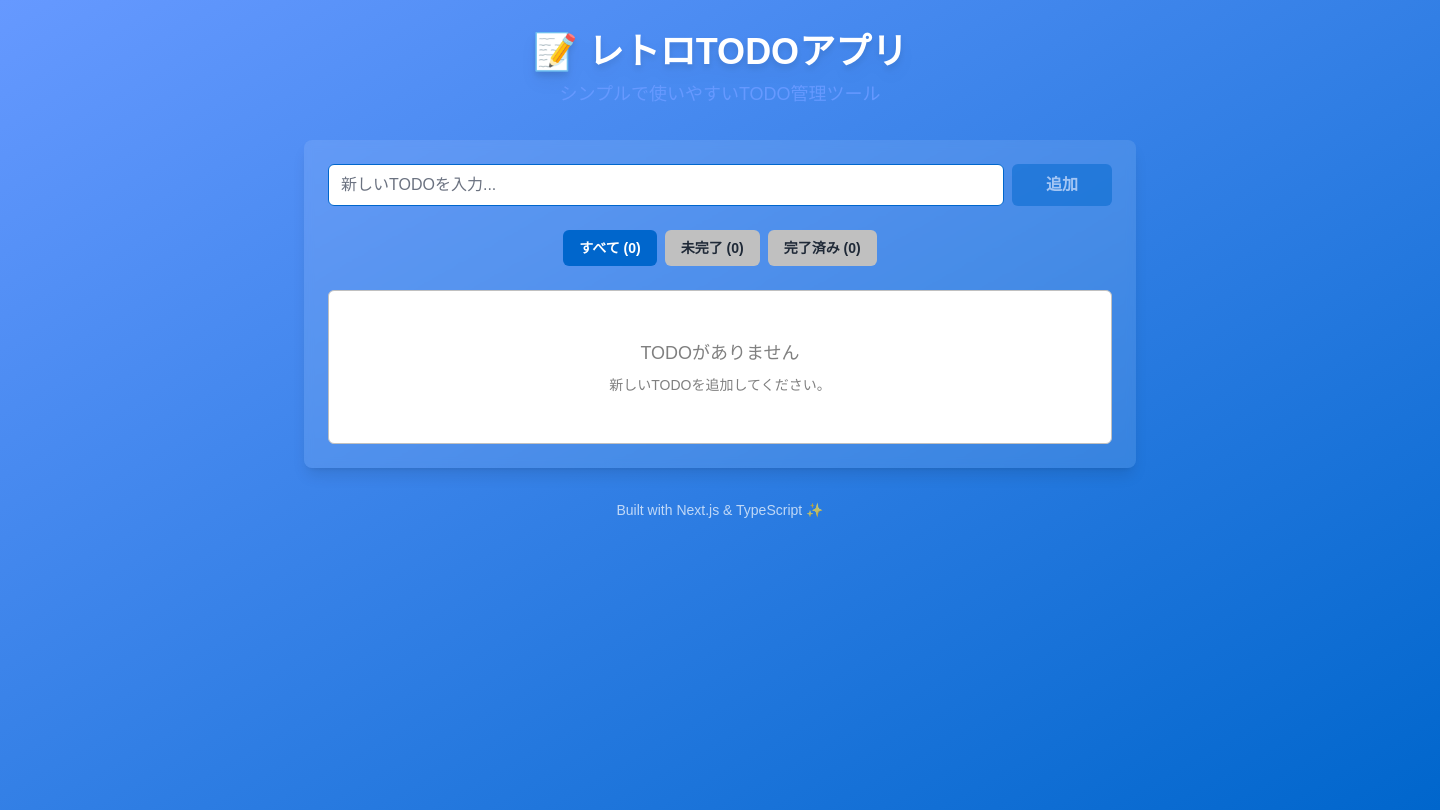
Test: TodoApp Component Integration Tests › should maintain todos order (newest first)
Expected: the text "TODOがありません" is shown, top-left (640, 343), bottom-right (800, 363)
In the field with placeholder "新しいTODOを入力...": point(666, 185) top-left (328, 164), bottom-right (1004, 206), type "First todo"
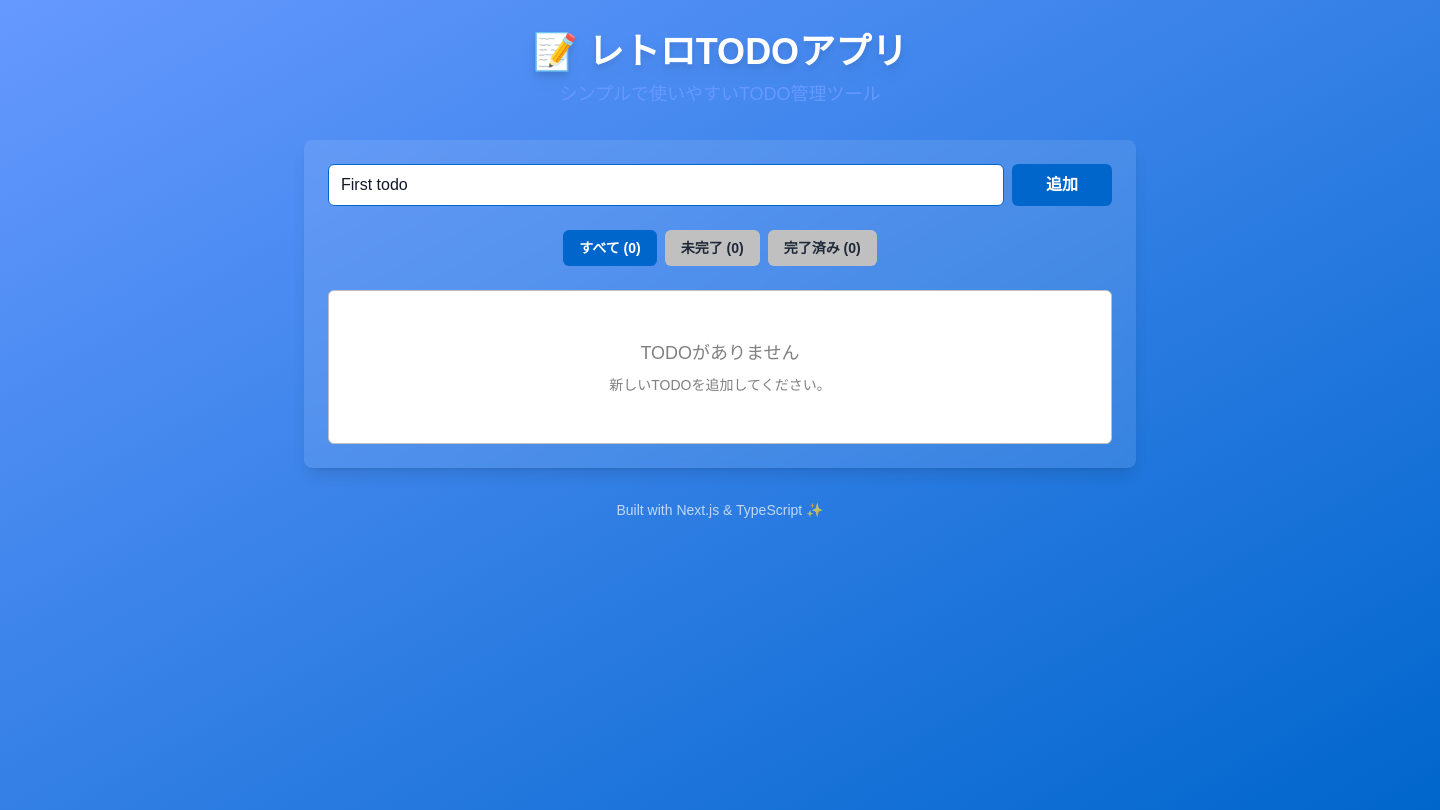
Click the button "追加": point(1062, 185) top-left (1012, 164), bottom-right (1112, 206)
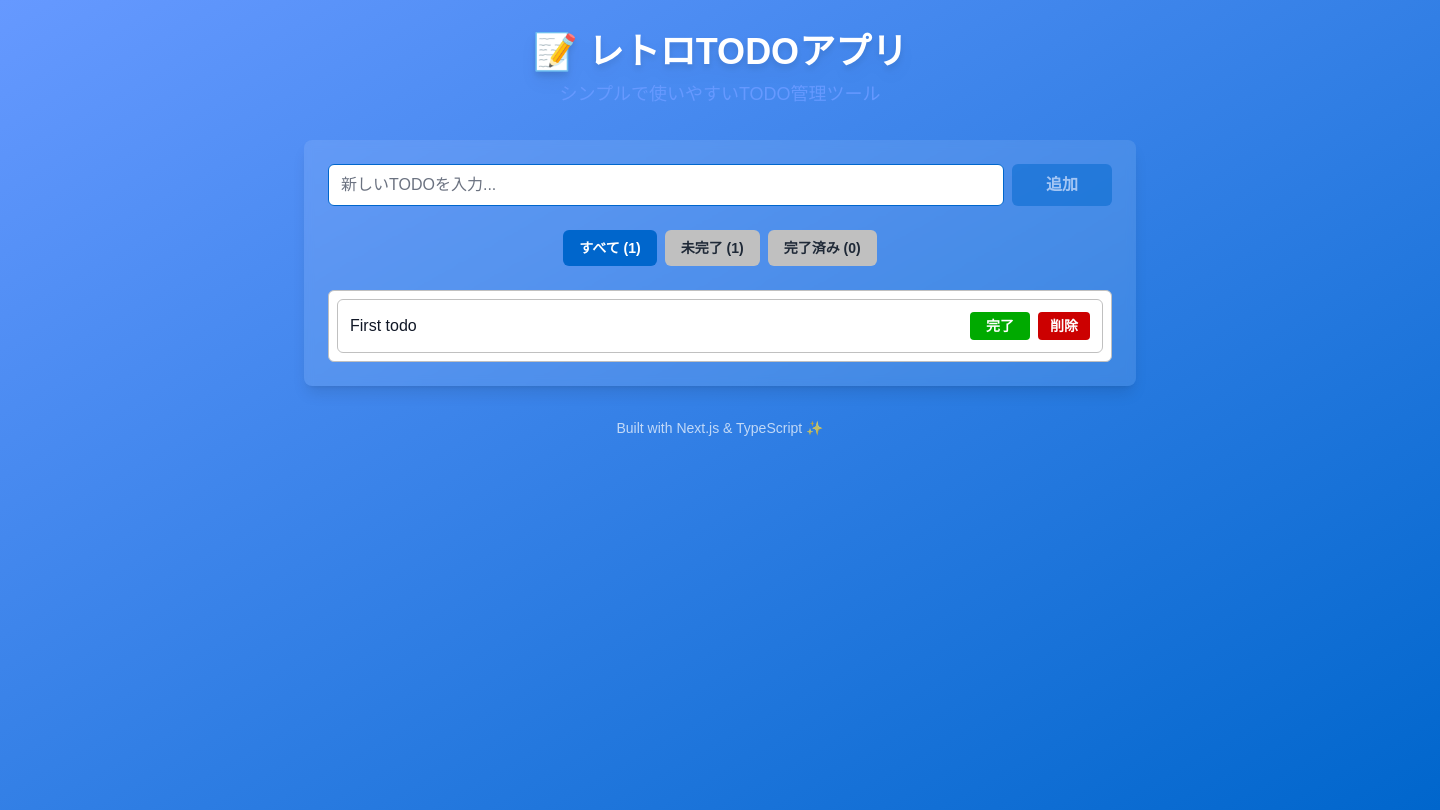
Expected: the text "First todo" is shown, top-left (350, 317), bottom-right (417, 334)
In the field with placeholder "新しいTODOを入力...": point(666, 185) top-left (328, 164), bottom-right (1004, 206), type "Second todo"
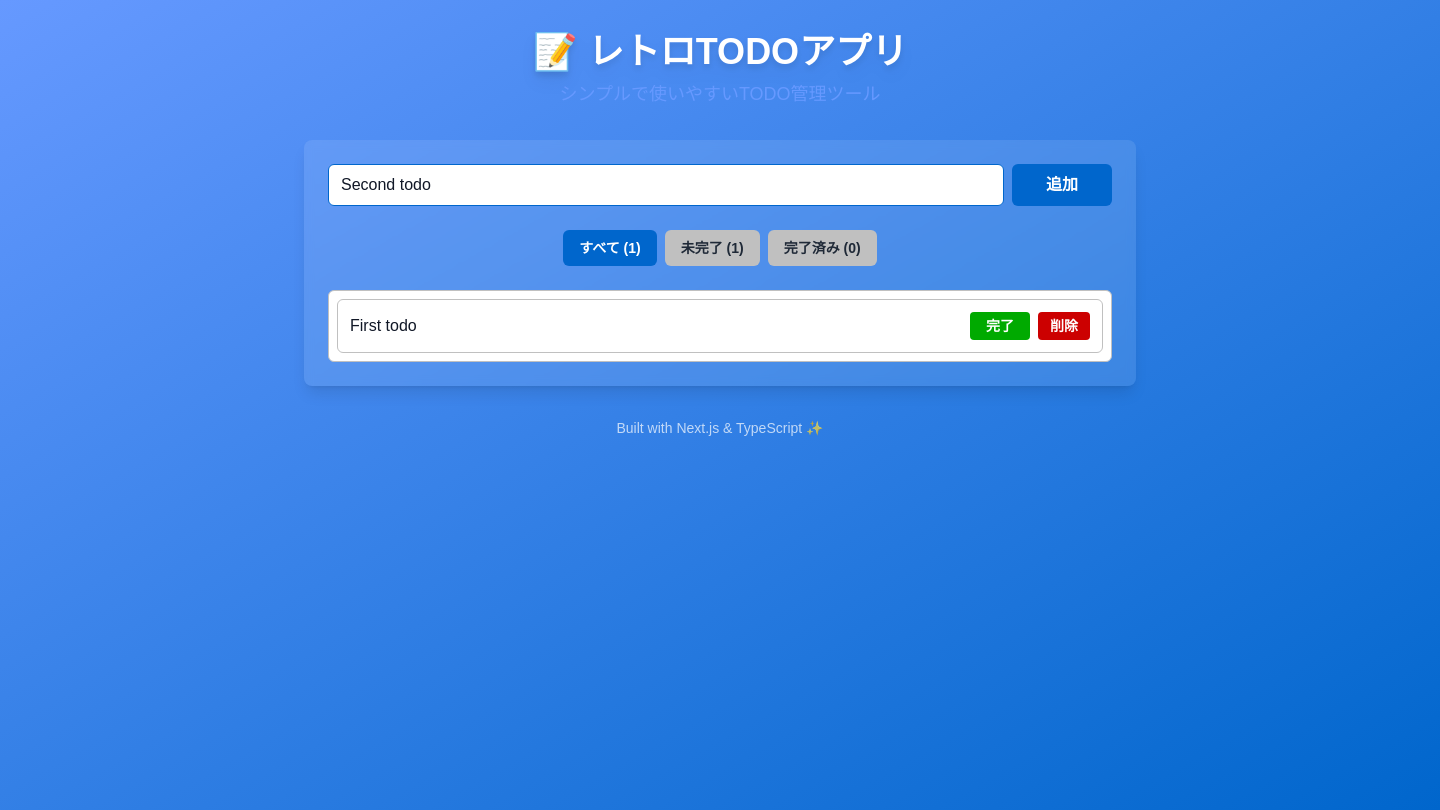
Click the button "追加": point(1062, 185) top-left (1012, 164), bottom-right (1112, 206)
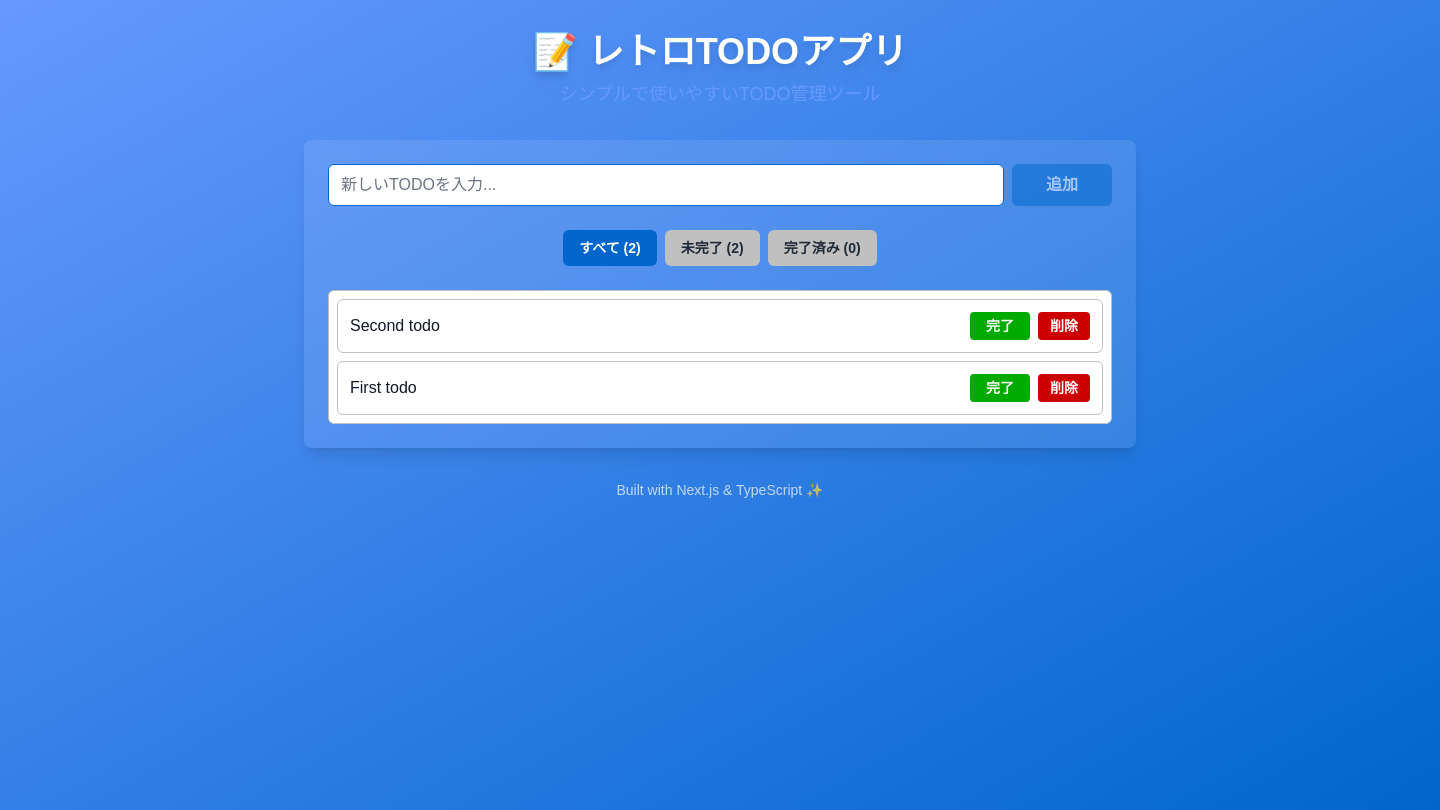
Expected: the text "Second todo" is shown, top-left (350, 317), bottom-right (440, 334)
In the field with placeholder "新しいTODOを入力...": point(666, 185) top-left (328, 164), bottom-right (1004, 206), type "Third todo"
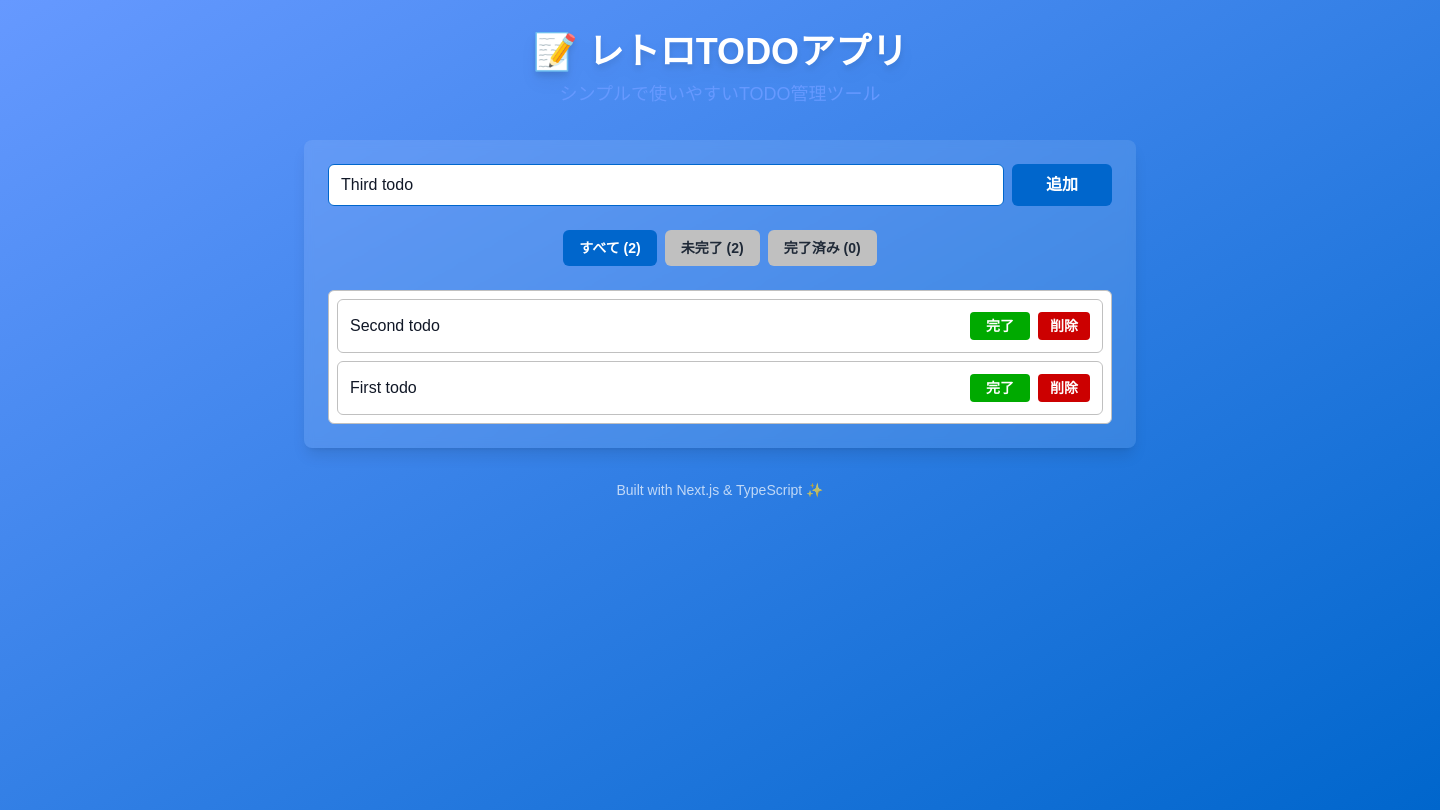
Click the button "追加": point(1062, 185) top-left (1012, 164), bottom-right (1112, 206)
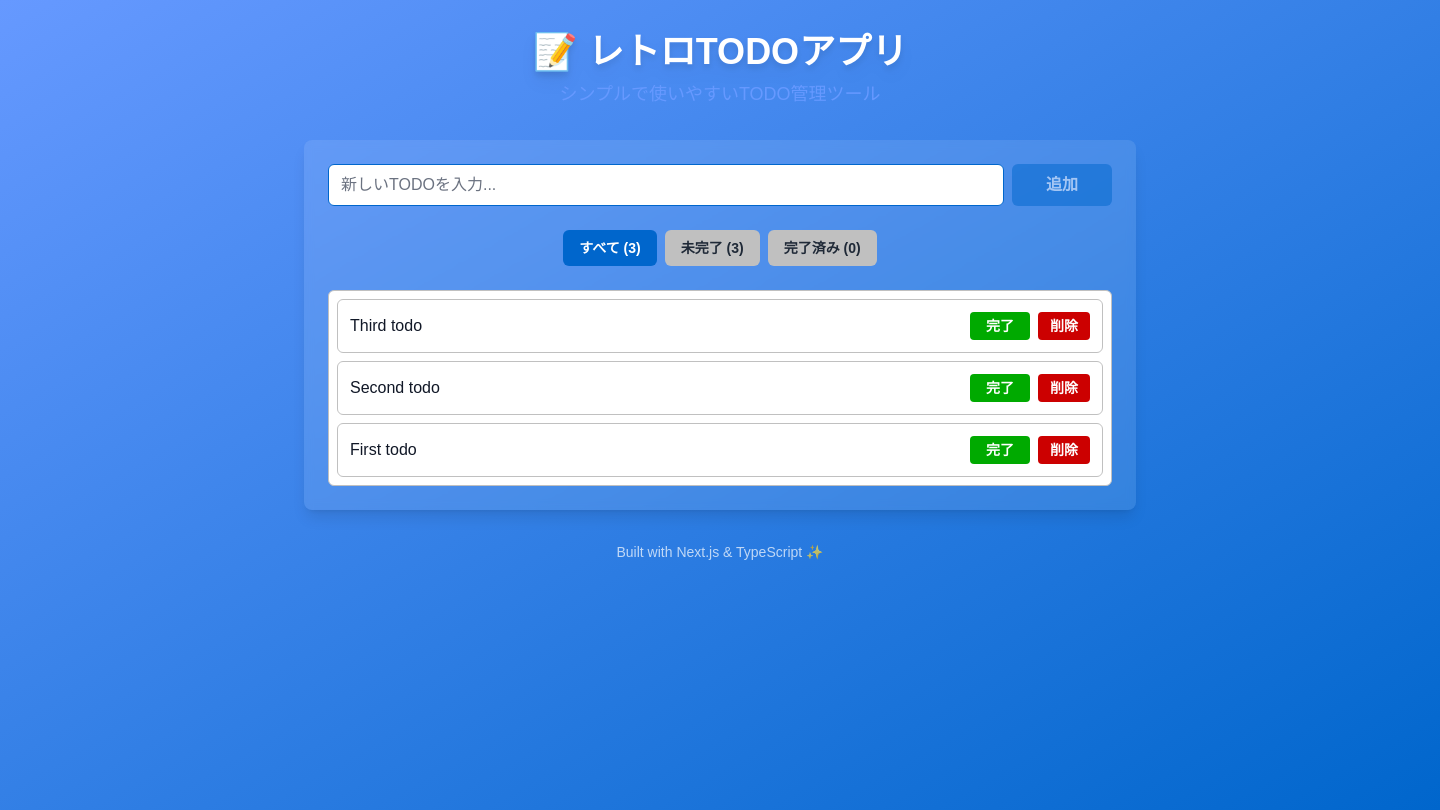
Expected: the text "Second todo" is shown, top-left (350, 379), bottom-right (440, 396)
Expected: the text "First todo" is shown, top-left (350, 441), bottom-right (417, 458)
Expected: the text "Third todo" is shown, top-left (350, 317), bottom-right (422, 334)
